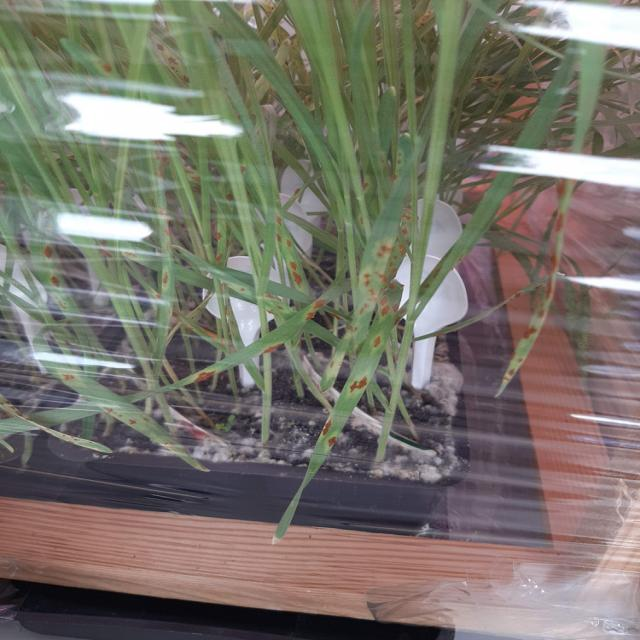wheat-stemrust: (502, 201, 569, 392), (357, 217, 396, 320), (362, 281, 404, 361), (275, 212, 309, 292), (341, 365, 373, 404), (296, 295, 332, 322), (211, 220, 226, 264), (160, 267, 171, 293)
